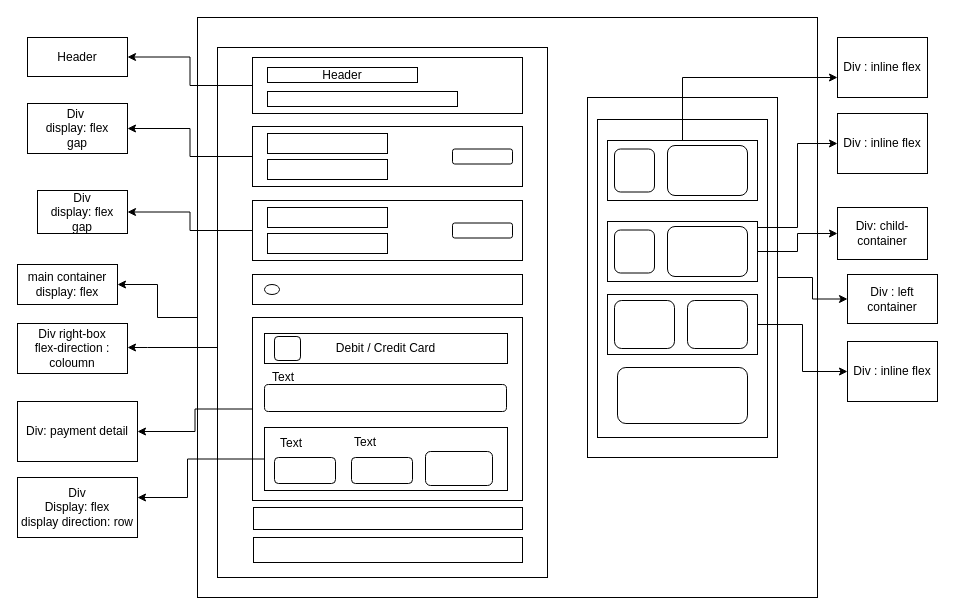
Image size: 955x615. Some labels were removed from this diagram. The centre of each missing label's shape, as x and y in pixels:
P tag: the point at 362,98
PAYMENT: the point at 387,289
